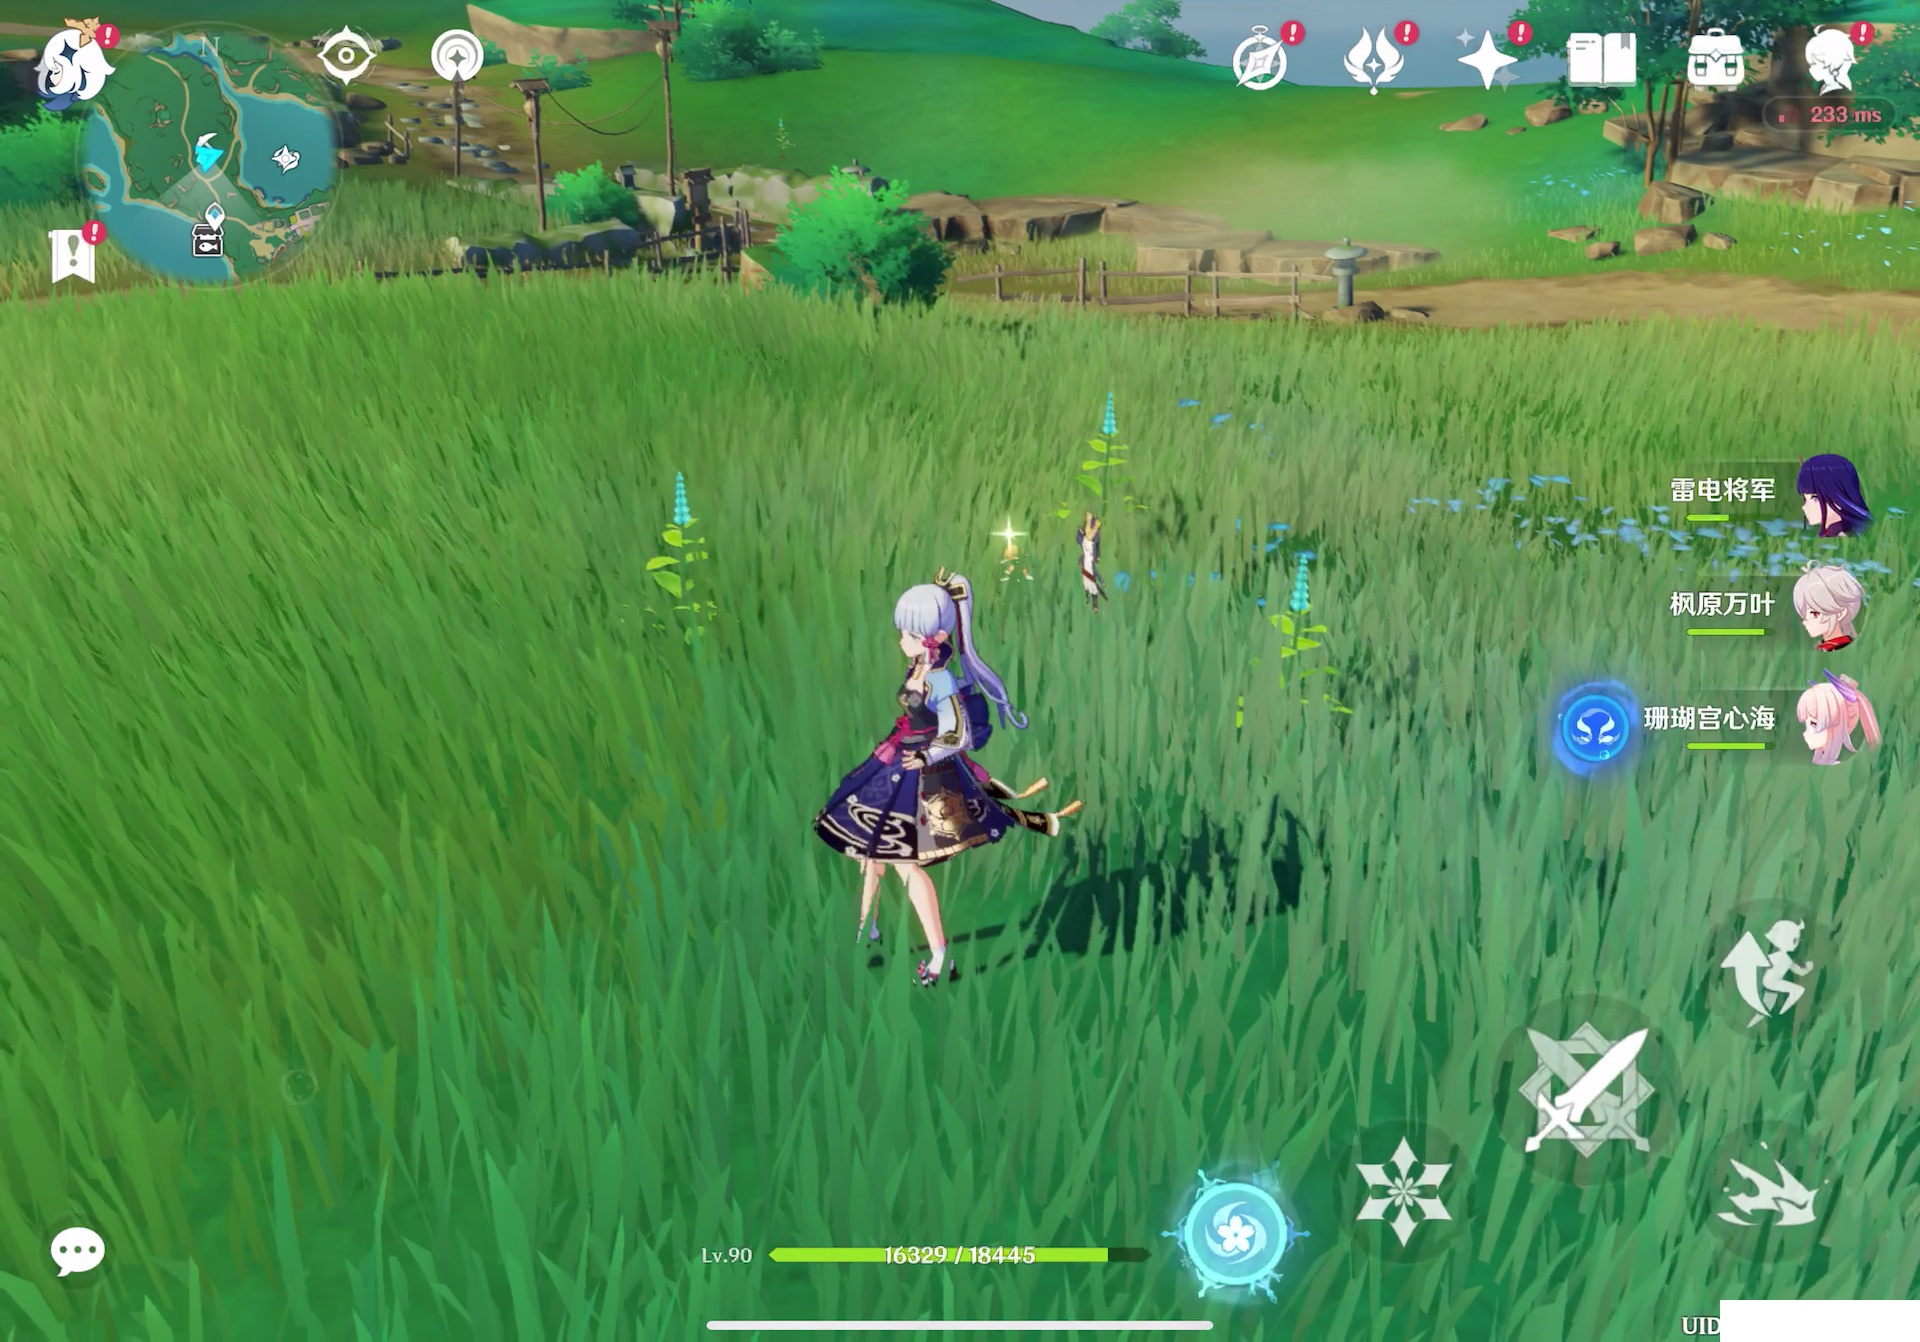没用的甜甜花: (980, 505, 1048, 602)
没用的薄荷: (1231, 532, 1392, 748), (630, 455, 748, 659), (1067, 384, 1172, 531)
神里绫龟: (836, 560, 1077, 993)
